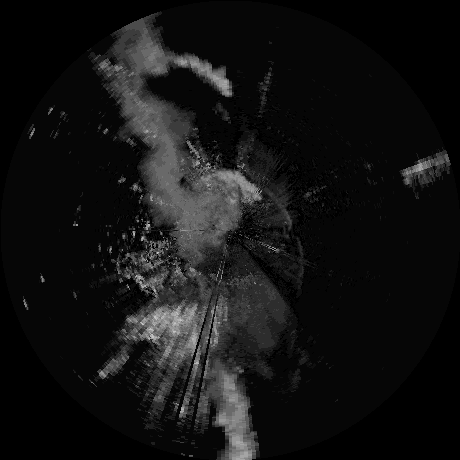frontgust: (245, 170, 291, 226)
